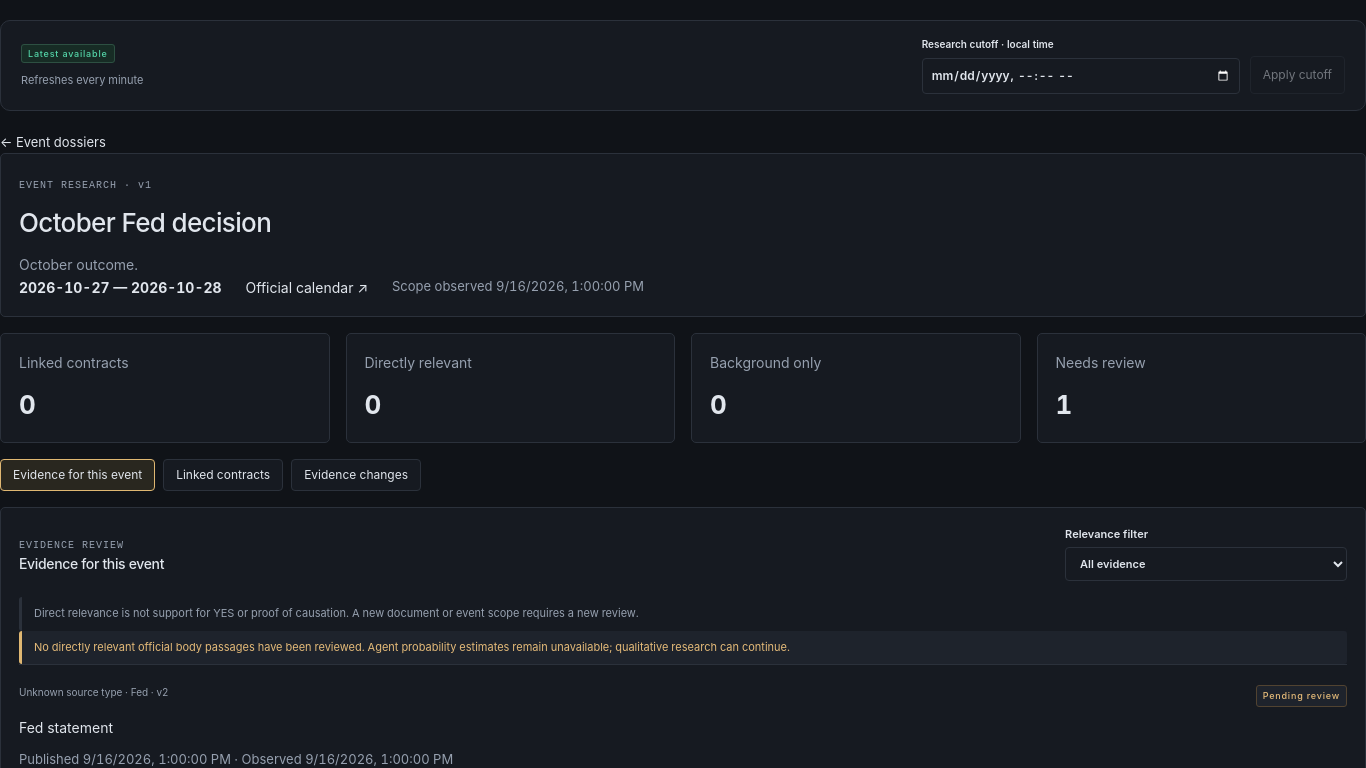
switches between evidence and changes without a long scroll
Expected: the heading "October Fed decision" is shown, [19,206,271,238]
Click the button "Evidence changes" at (356, 475), box [291,459,421,491]
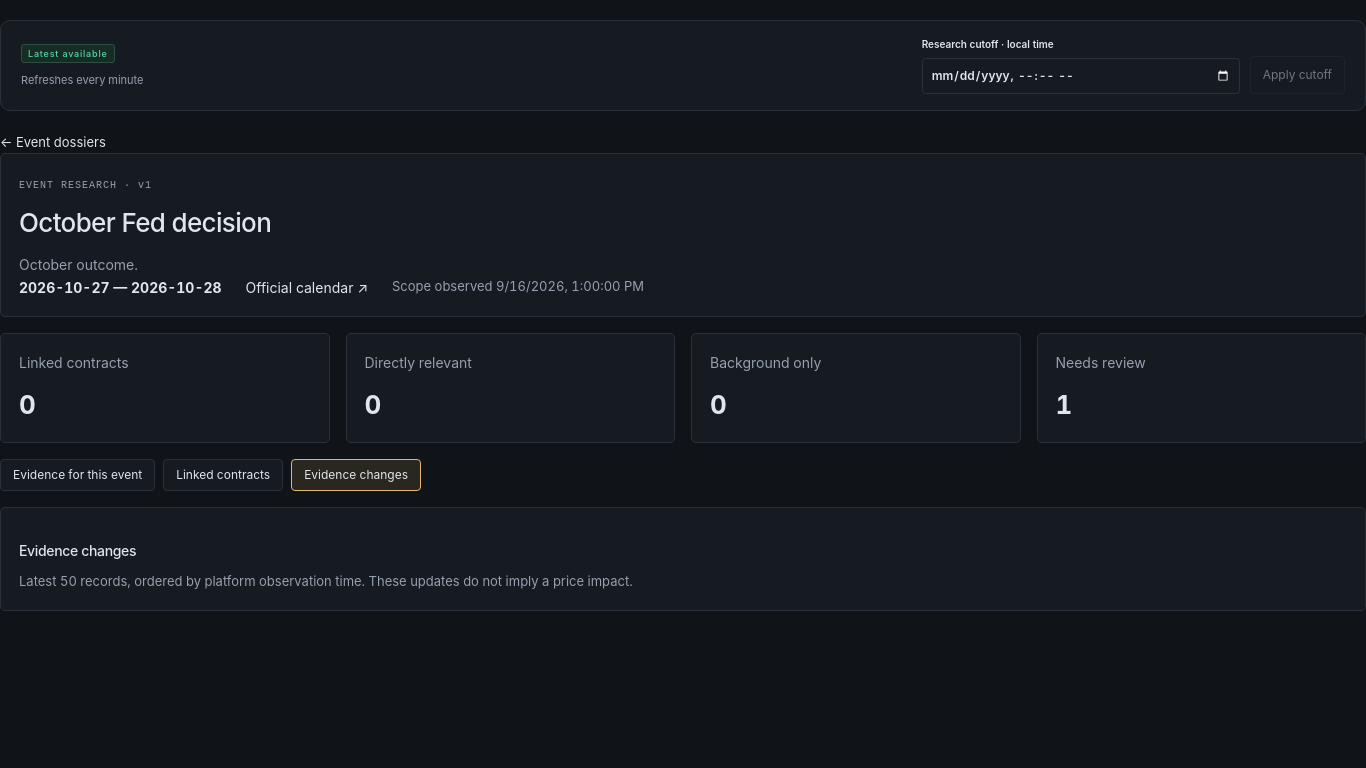
Expected: the heading "Evidence changes" is shown, [19,542,136,559]
Click the button "Evidence for this event" at (78, 475), box [0,459,155,491]
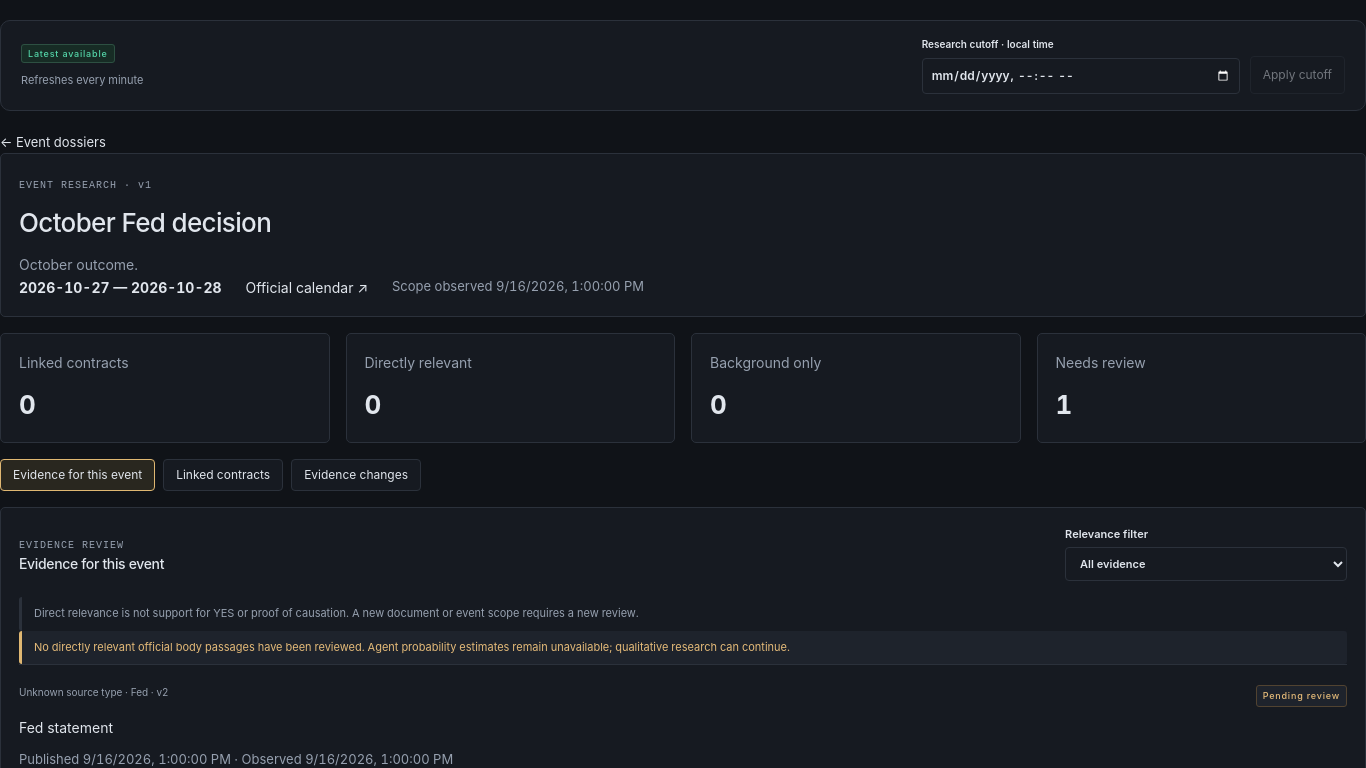
Expected: the link "Fed statement" is shown, [19,719,113,736]
